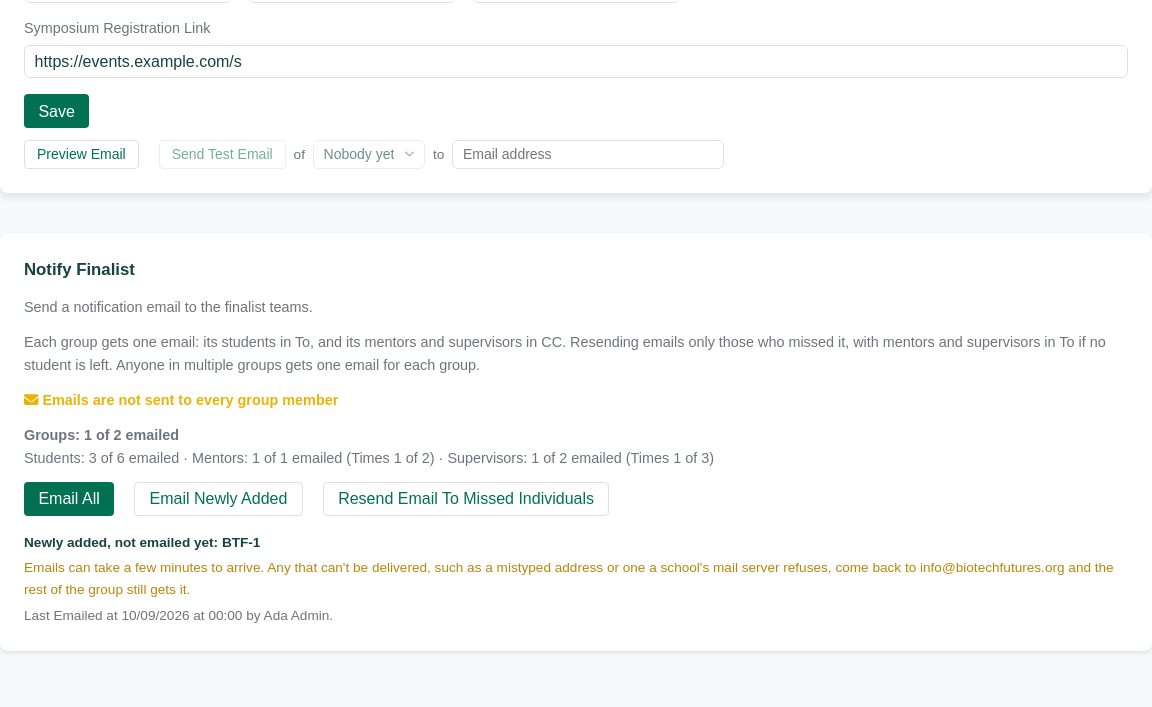
Test: sending › says where undeliverable ones come back to even when nobody was left to email
(page scrolled)
Step 1. Click the button "Email All" → (69,499), box [24,482,114,516]
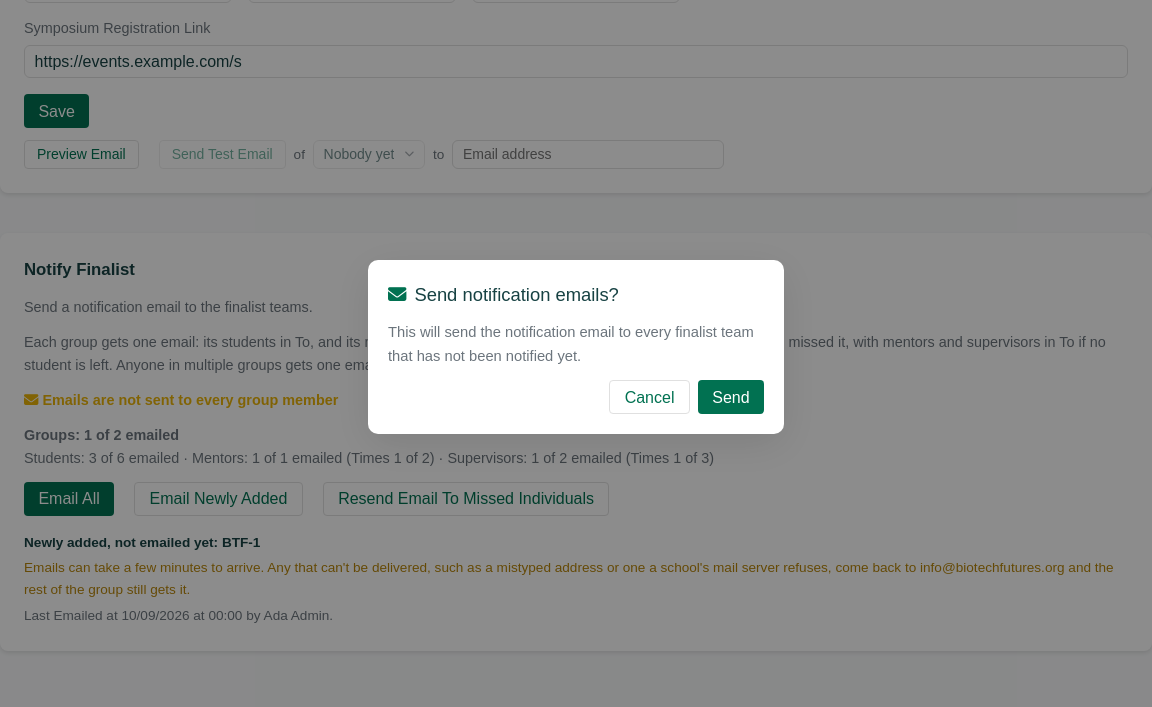
Step 2. Click the button "Send" → (731,397), box [698,380,764,414]
(page scrolled)
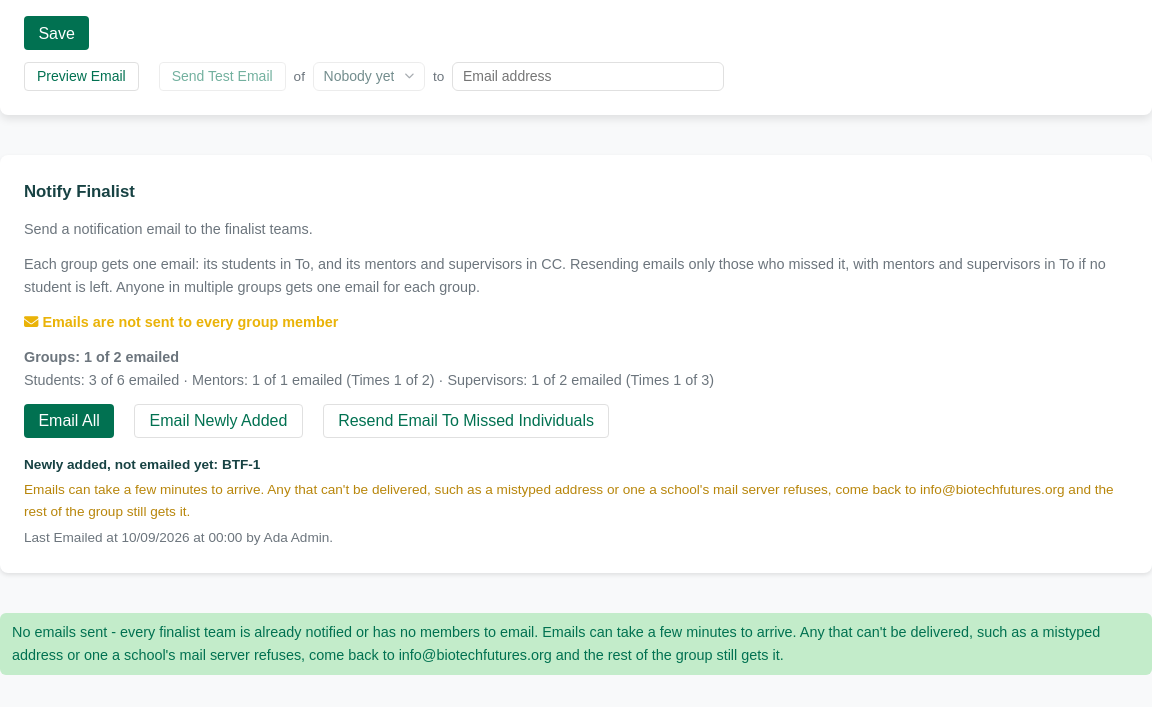
Expected: the text with class "notify-finalists__banner--ok" shows "every finalist team is already notified or has no members to email. Emails can take a few minutes to arrive.", [12,624,1100,662]
